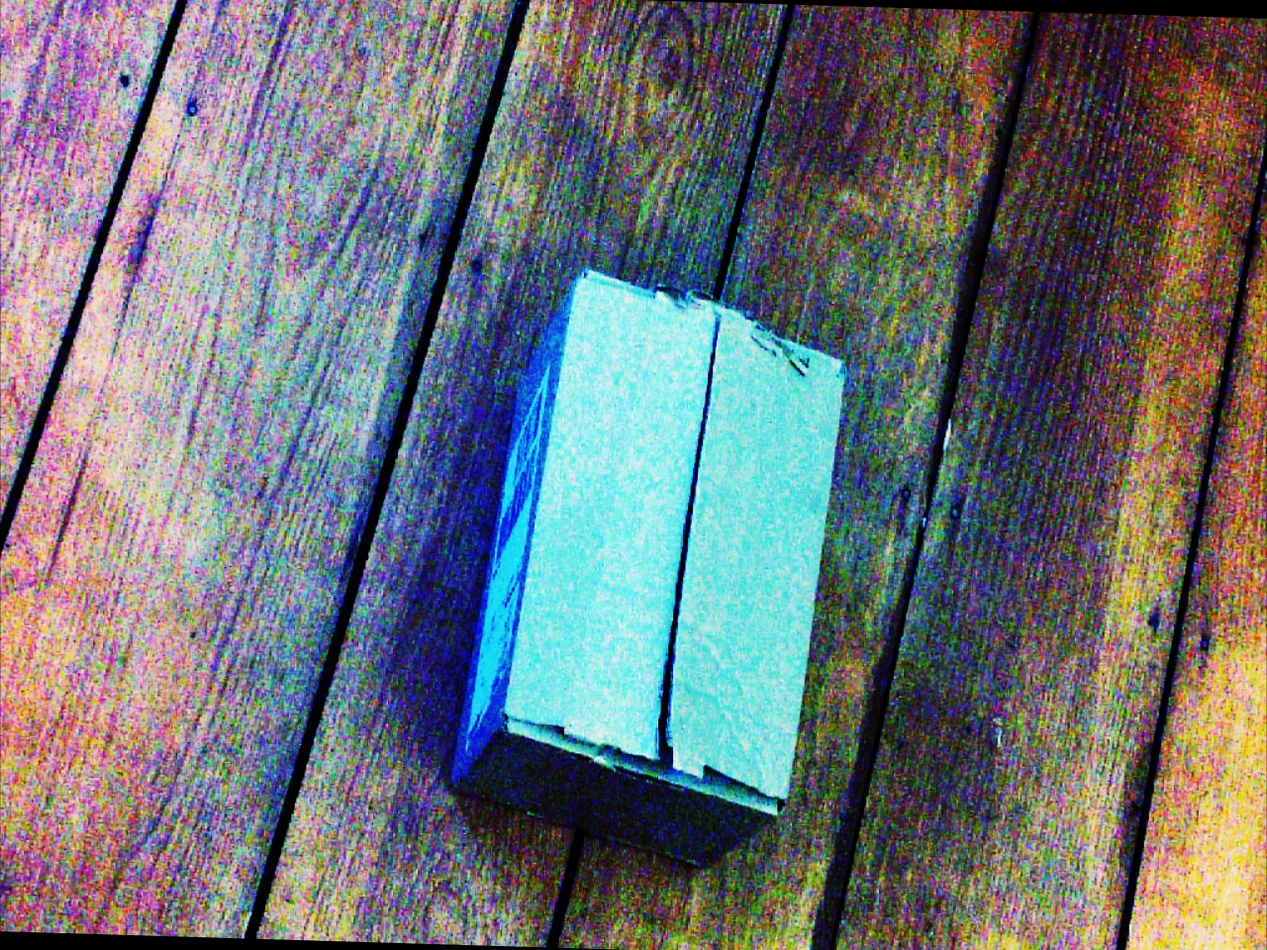good-parcel: (448, 266, 848, 889)
